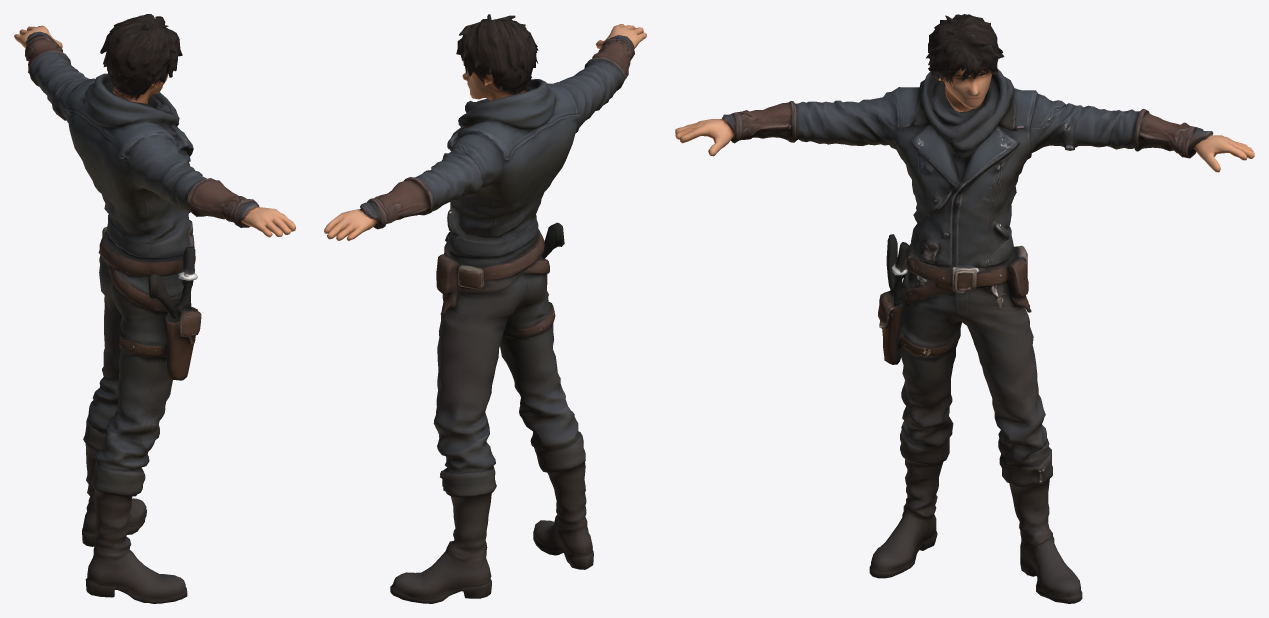
The picture shows the model from 3 angles, left to right: view 1: azimuth 30°, elevation 25°; view 2: azimuth 150°, elevation 25°; view 3: azimuth 270°, elevation 25°; orthographic projection. The views are drawn at different scales.
Visible parts, largest first — view 1: tripo_node_da6d5132-c0fb-4b0b-9039-f1cd474dc519; view 2: tripo_node_da6d5132-c0fb-4b0b-9039-f1cd474dc519; view 3: tripo_node_da6d5132-c0fb-4b0b-9039-f1cd474dc519.
Part boxes in pixels (x1,y1,x2,y2): tripo_node_da6d5132-c0fb-4b0b-9039-f1cd474dc519: (14, 14, 295, 603); tripo_node_da6d5132-c0fb-4b0b-9039-f1cd474dc519: (324, 14, 646, 603); tripo_node_da6d5132-c0fb-4b0b-9039-f1cd474dc519: (675, 14, 1254, 603).
Bounding box in the file's own units: 0.2446 × 1 × 0.9335.
Materials: 1 (1 with a texture image).
